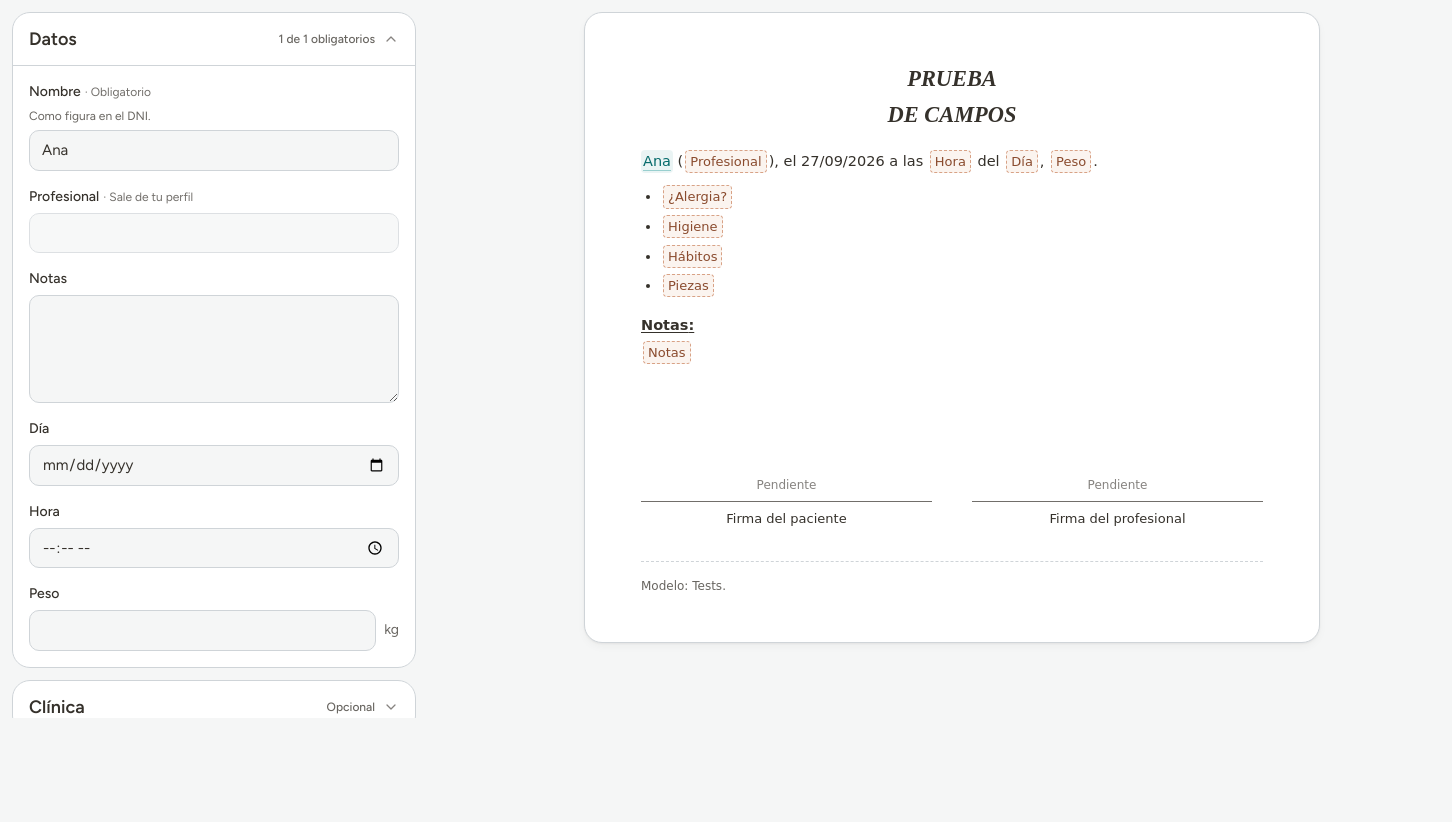
Scenario: EditorDeDocumento › un error de formato se ve enseguida y no se manda a guardar
Type "70.25" into the number field labelled "Peso" at (203,630), box [29,610,376,650]
Wait 1000 ms
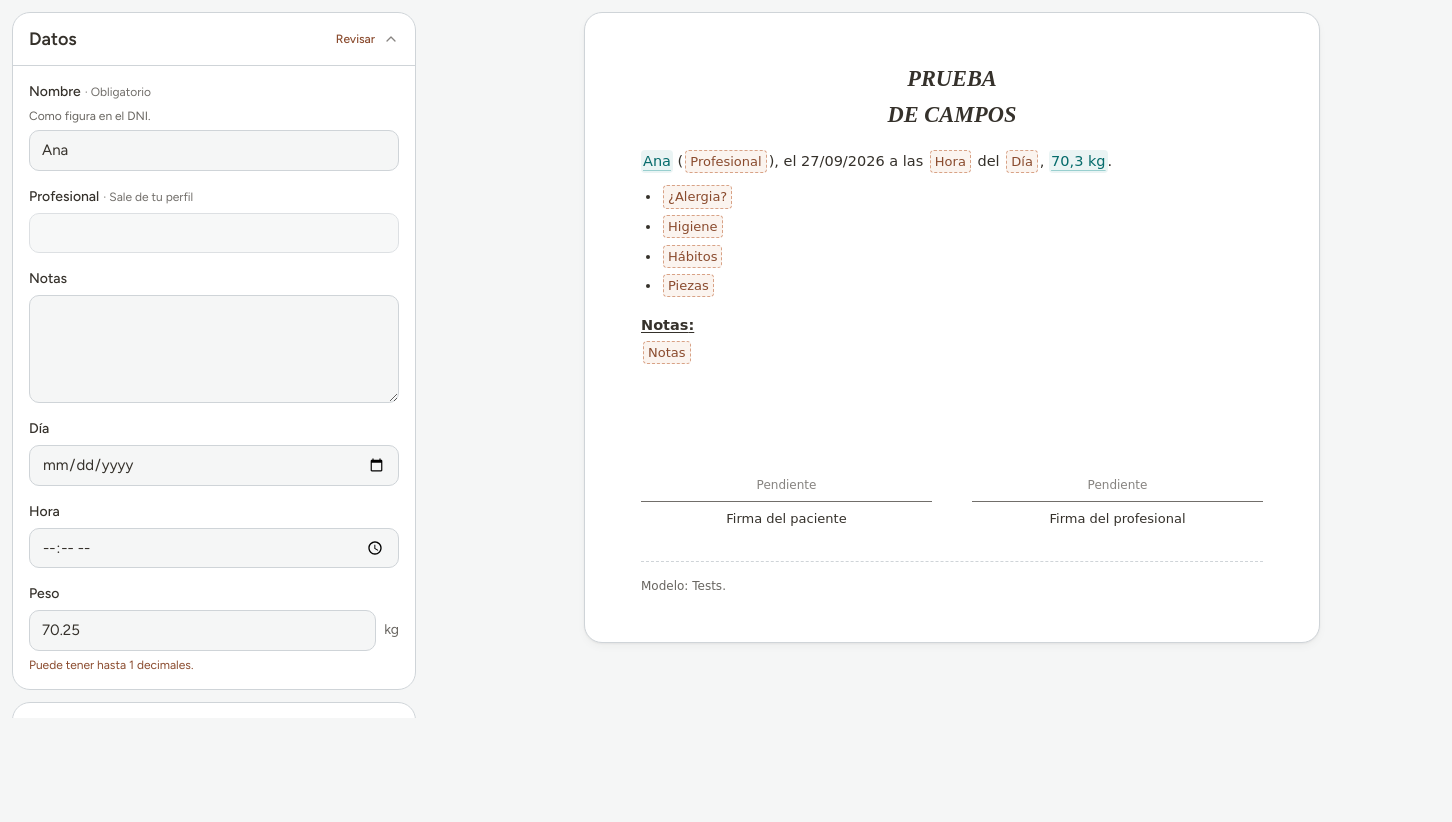
Check: the message reads "Puede tener hasta 1 decimales.", box [29,658,193,672]
